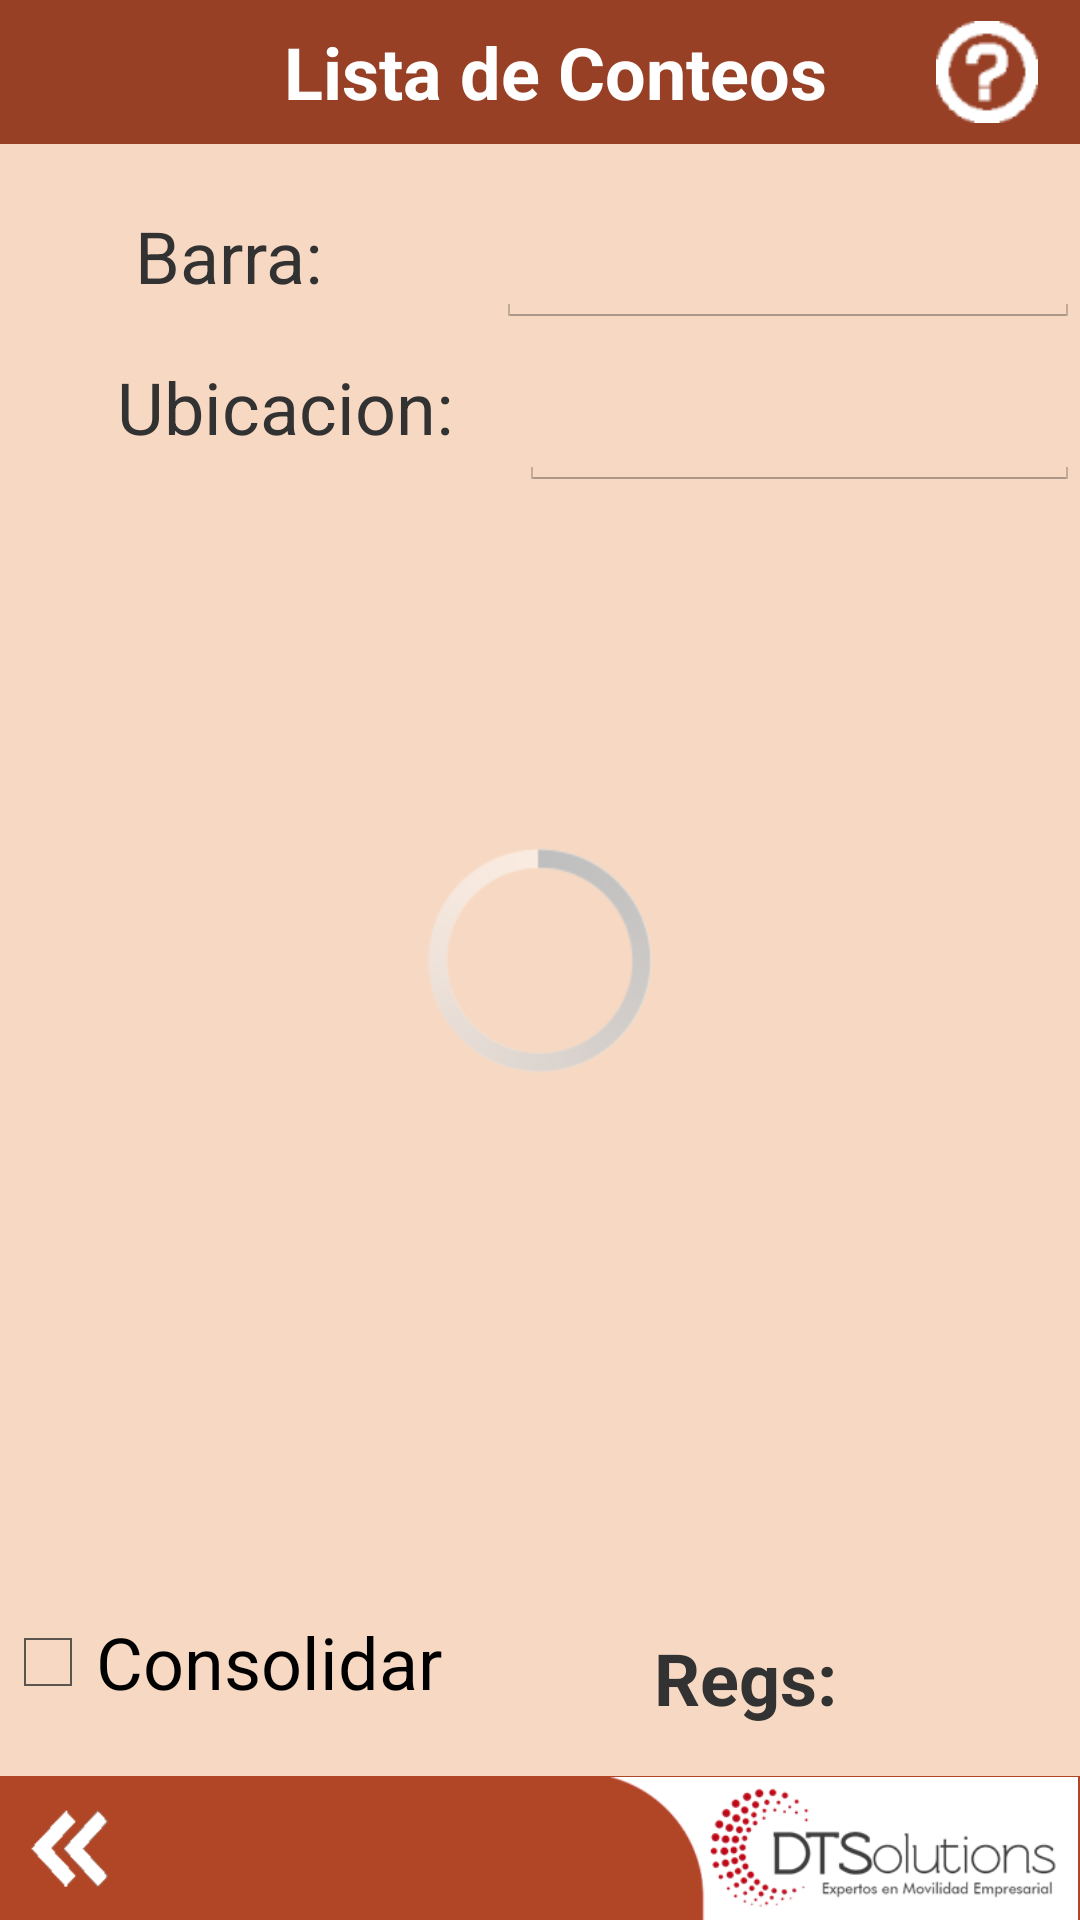

Named icons in this screenshot (1080 × 1920) and their bounding boxes, (x1, y1, x2, y2):
arr prev: (31, 1810, 108, 1887)
help: (936, 21, 1038, 123)
